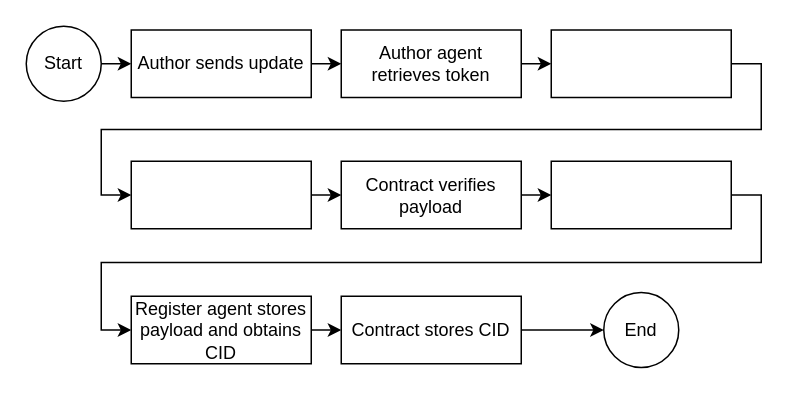
This 800x395 diagram has some shape labels left out. Here are the shapes that lost their labels. From the top down, the centre of each, then its label:
point 640,63: Contract verifies token and retrieves public key
point 220,194: Contract verifies manifest
point 640,194: Contract stores manifest
